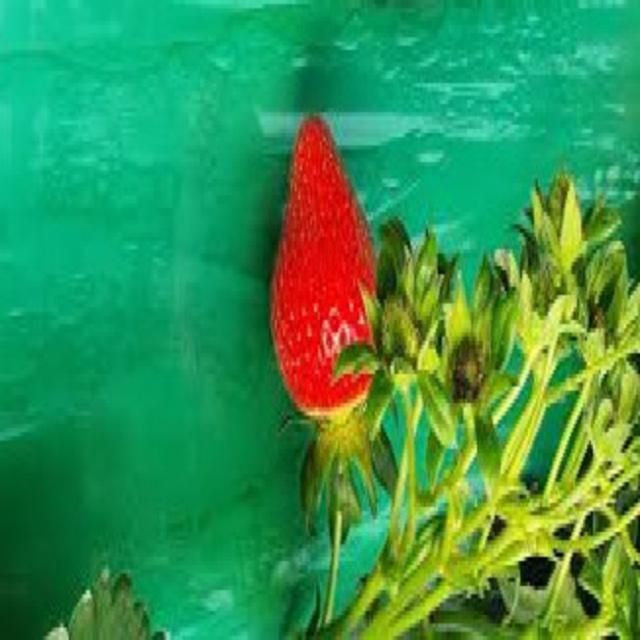ripe: (270, 116, 378, 423)
